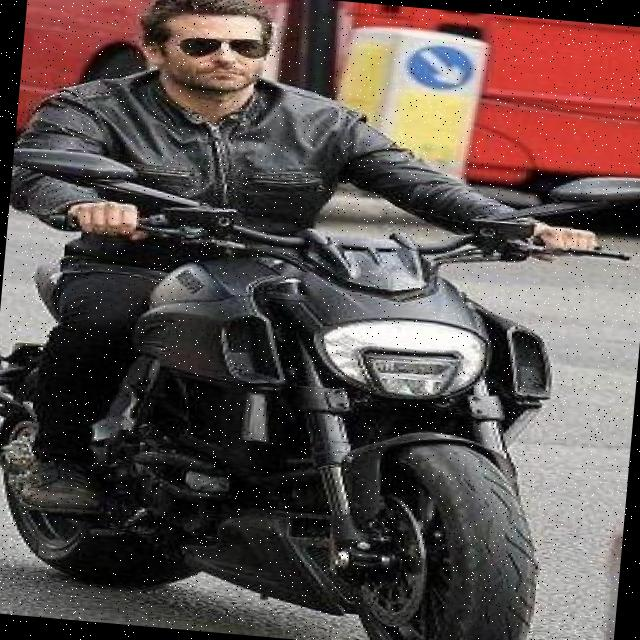No helmet: (138, 0, 280, 98)
